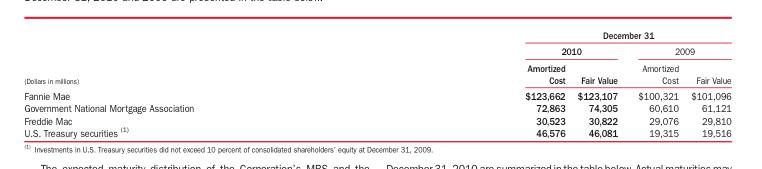table: (23, 29, 730, 138)
table column: (23, 29, 358, 138), (358, 29, 570, 138), (570, 29, 627, 138), (627, 29, 684, 138), (684, 29, 730, 138)
table column header: (23, 29, 730, 87)
table row: (23, 59, 730, 87), (23, 43, 730, 59), (23, 29, 730, 43), (23, 87, 730, 101), (23, 101, 730, 114), (23, 125, 730, 138), (23, 114, 730, 125)
table spanning cell: (23, 29, 358, 87), (358, 29, 730, 43), (358, 43, 627, 59), (627, 43, 730, 59)
